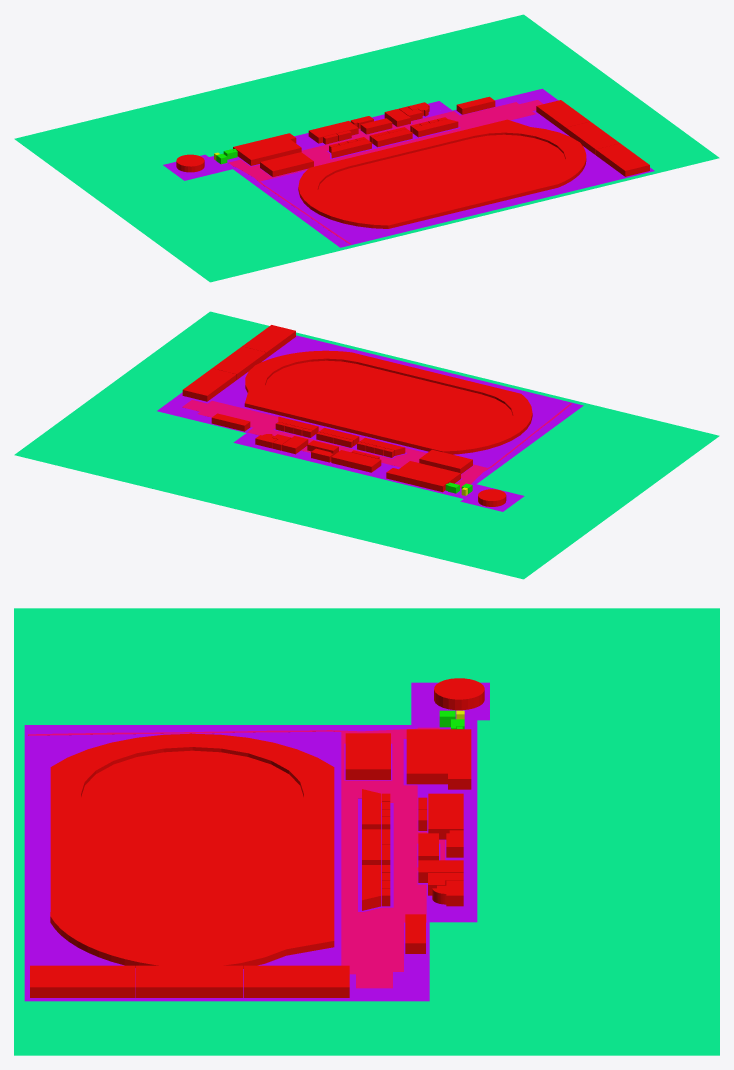
The model's file is njc-b3.glb.
3 views of the same model, one above another, from view 1: azimuth 30°, elevation 25°; view 2: azimuth 150°, elevation 25°; view 3: azimuth 270°, elevation 25° (orthographic). The views are drawn at different scales.
Visible parts, largest first — view 1: Grey, Object.001, Base, Object.025, Foot, Object, Object.026, Object.028, Object.027, Object.002, Object.013, Object.023 (+4 smaller); view 2: Grey, Object.001, Base, Object.025, Foot, Object, Object.028, Object.027, Object.026, Object.002, Object.013, Object.024 (+1 smaller); view 3: Grey, Object.001, Base, Object.025, Foot, Object, Object.027, Object.028, Object.026, Object.002, Object.013, Object.024 (+5 smaller).
Part boxes in pixels (<box>): Grey: <box>14,14,719,282</box>; Object.001: <box>318,134,565,215</box>; Base: <box>163,88,654,247</box>; Object.025: <box>298,119,586,228</box>; Foot: <box>228,100,543,244</box>; Object: <box>233,133,301,165</box>; Object.026: <box>596,143,649,176</box>; Object.028: <box>536,100,589,133</box>; Object.027: <box>566,121,619,154</box>; Object.002: <box>260,152,313,176</box>; Object.013: <box>308,121,358,143</box>; Object.023: <box>413,119,458,137</box>; Grey: <box>14,311,719,579</box>; Object.001: <box>265,360,512,441</box>; Base: <box>157,335,583,511</box>; Object.025: <box>244,350,532,454</box>; Foot: <box>182,400,571,488</box>; Object: <box>386,461,460,492</box>; Object.028: <box>182,368,236,401</box>; Object.027: <box>212,346,266,379</box>; Object.026: <box>242,325,295,357</box>; Object.002: <box>419,449,472,473</box>; Object.013: <box>331,450,381,472</box>; Object.024: <box>478,489,506,506</box>; Grey: <box>14,608,719,1055</box>; Object.001: <box>81,750,303,950</box>; Base: <box>24,682,489,1001</box>; Object.025: <box>50,733,334,968</box>; Foot: <box>28,727,445,988</box>; Object: <box>406,729,471,789</box>; Object.027: <box>136,965,242,997</box>; Object.028: <box>243,965,349,997</box>; Object.026: <box>30,965,135,997</box>; Object.002: <box>345,733,390,779</box>; Object.013: <box>428,793,463,839</box>; Object.024: <box>434,678,484,710</box>.
Bounding box in the file's own units: 18 × 0.2 × 12.
